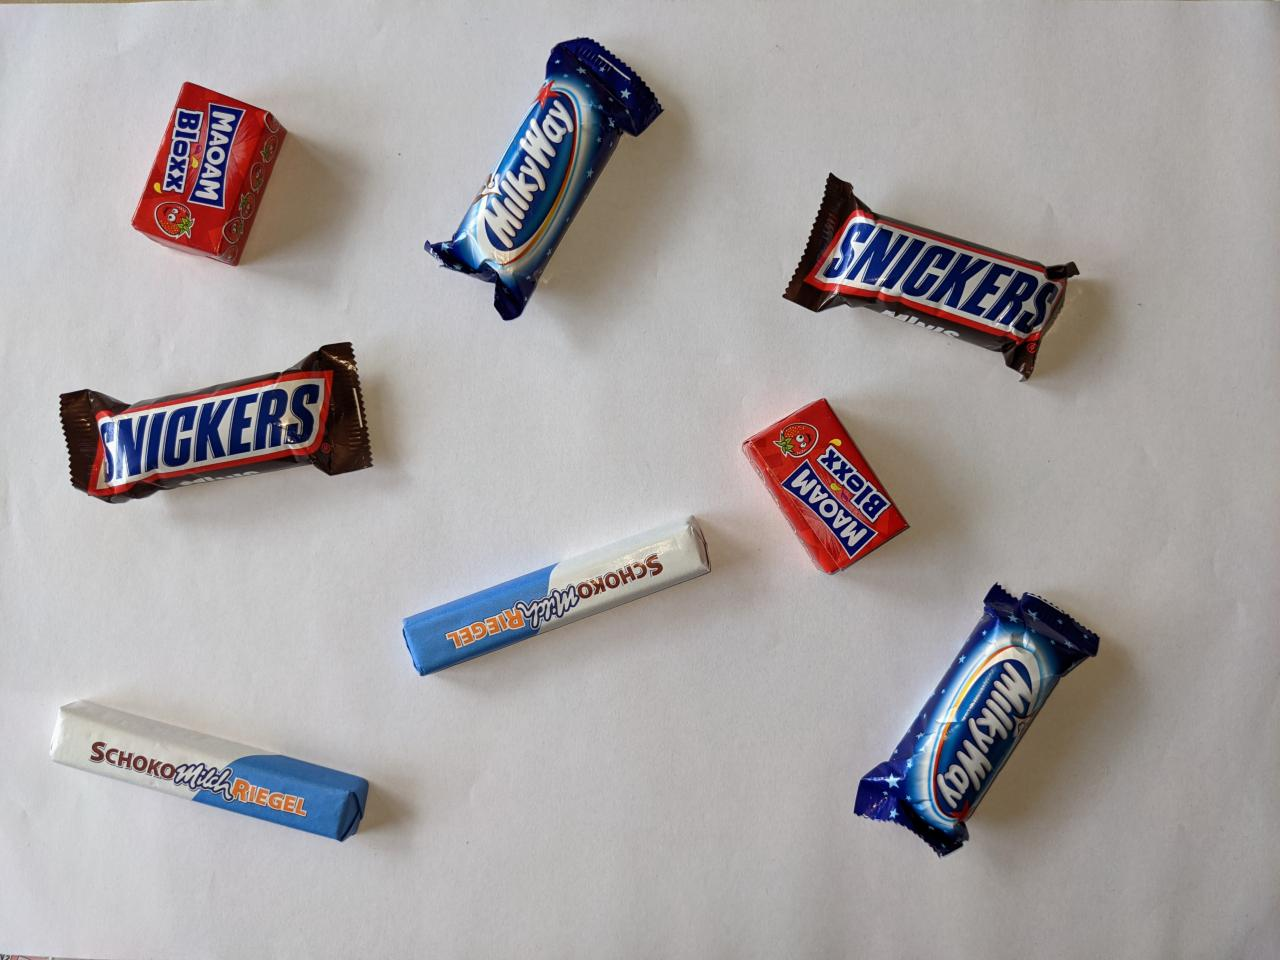MAOAM: (732, 390, 917, 585), (123, 76, 296, 273)
MilkyWay: (415, 30, 674, 330), (845, 574, 1106, 867)
Schokoriegel: (391, 504, 726, 689), (43, 693, 376, 848)
Snickers: (774, 160, 1092, 394), (50, 336, 382, 513)
